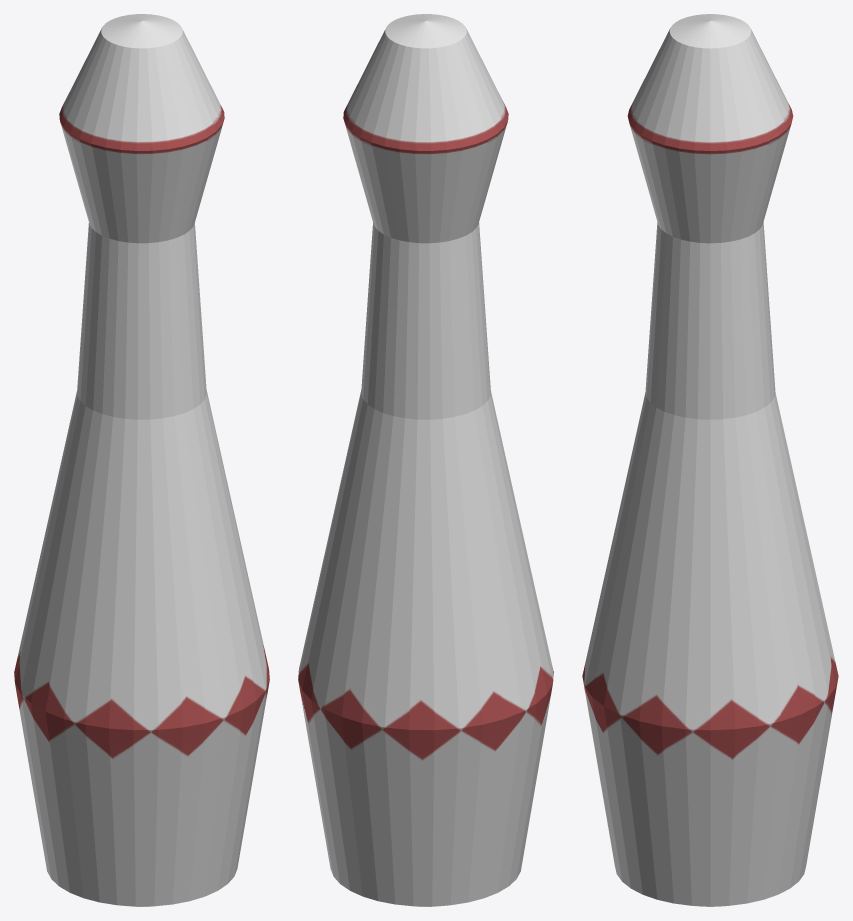
Rendered from pin.obj.
3 views of the same model, side by side, from view 1: azimuth 30°, elevation 25°; view 2: azimuth 150°, elevation 25°; view 3: azimuth 270°, elevation 25° (orthographic).
Parts seen in each view (by area): view 1: Cylinder; view 2: Cylinder; view 3: Cylinder.
Part boxes in pixels (x1,y1,x2,y2): Cylinder: (14, 14, 269, 906); Cylinder: (298, 14, 553, 906); Cylinder: (582, 14, 838, 906).
Bounding box in the file's own units: 2 × 7.44 × 2.
1 material, 1 textured.
